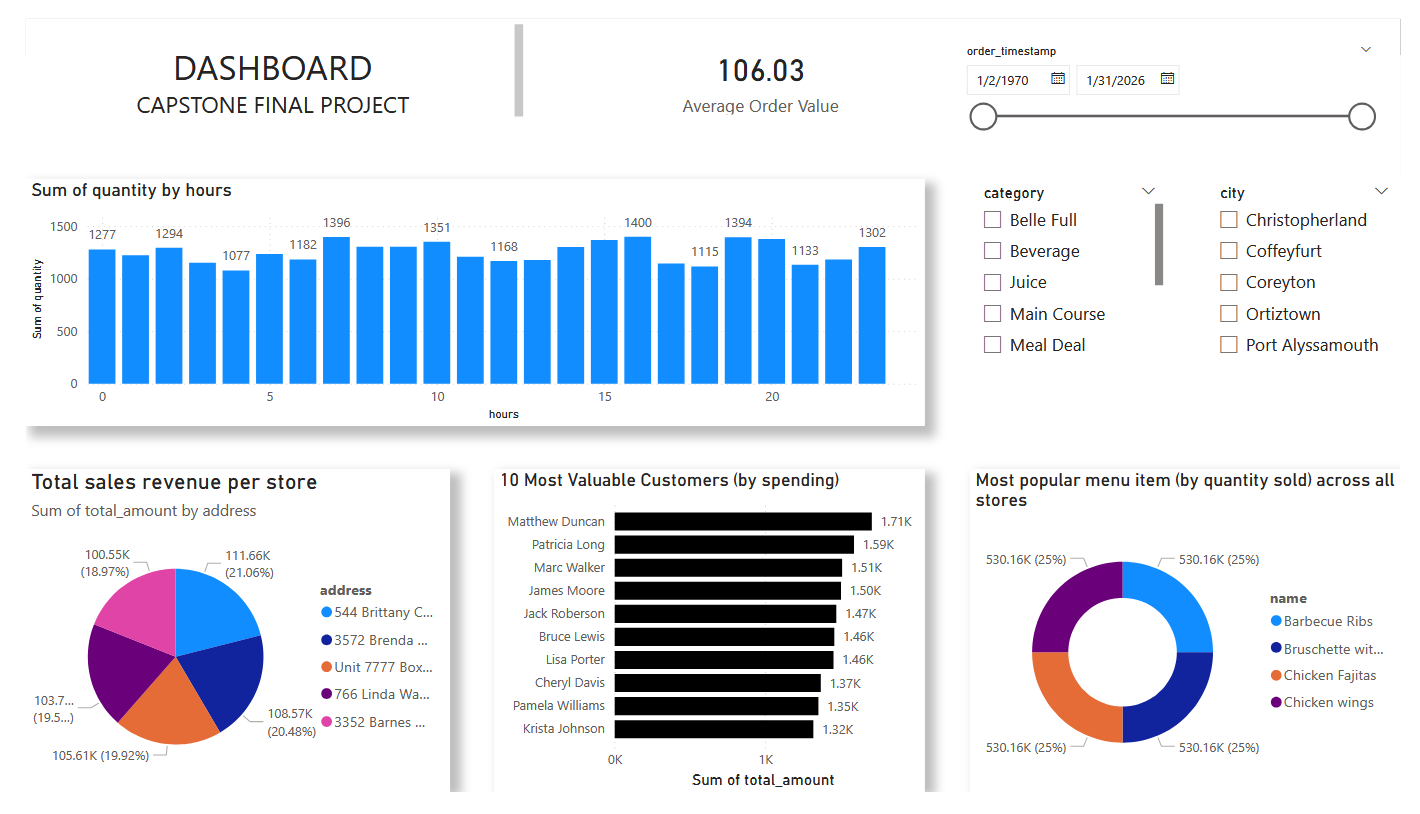

Layout of this report page (visuals, bound fields, positions):
{"tool":"powerbi","page":{"name":"Page 1","canvas":[1280,720],"ordinal":0},"visuals":[{"type":"pieChart","title":"Total sales revenue per store","fields":{"Category":["public stores.address"],"Y":["Sum(public orders.total_amount)"]},"box":[0,419.4,395.1,301.2],"z":0},{"type":"clusteredBarChart","title":"10 Most Valuable Customers (by spending)","fields":{"Category":["public customers.fullname"],"Y":["Sum(public orders.total_amount)"]},"box":[435.6,419.4,401.6,301.2],"z":1000},{"type":"donutChart","title":"Most popular menu item (by quantity sold) across all stores","fields":{"Category":["public menu_items.name"],"Y":["Sum(public orders.total_amount)"]},"box":[879.2,419.4,401.6,301.2],"z":2000},{"type":"card","fields":{"Values":["Avg(public orders.total_amount)"]},"box":[505.2,19.4,357.8,74.5],"z":3000},{"type":"columnChart","fields":{"Y":["Sum(public order_items.quantity)"],"Category":["public orders.hours"]},"box":[0,149,837.1,229.9],"z":4000},{"type":"slicer","fields":{"Values":["public stores.city"]},"box":[1099.5,149,181.4,176.5],"z":5000},{"type":"slicer","fields":{"Values":["public orders.order_timestamp"]},"box":[863,19.4,401.6,110.1],"z":6000},{"type":"textbox","box":[0,0,468,105.2],"z":7000},{"type":"slicer","fields":{"Values":["public menu_items.category"]},"box":[879.2,149,184.6,176.5],"z":7001}]}

Visuals, with their boxes in screenshot pixels (x1, y1, x2, y2), scaled from the page's 1280x720 canvas onto the 1420x814 screenshot:
"Total sales revenue per store" pieChart: 0,474,438,813
"10 Most Valuable Customers (by spending)" clusteredBarChart: 483,474,929,813
"Most popular menu item (by quantity sold) across all stores" donutChart: 975,474,1419,813
card - Avg(public orders.total_amount): 560,22,957,106
columnChart - Sum(public order_items.quantity) x public orders.hours: 0,168,929,428
slicer - public stores.city: 1220,168,1419,368
slicer - public orders.order_timestamp: 957,22,1403,146
textbox: 0,0,519,119
slicer - public menu_items.category: 975,168,1180,368
